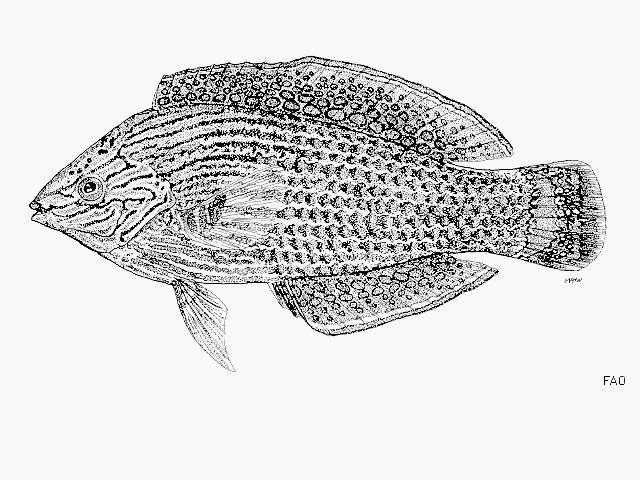fish: (28, 55, 607, 372)
